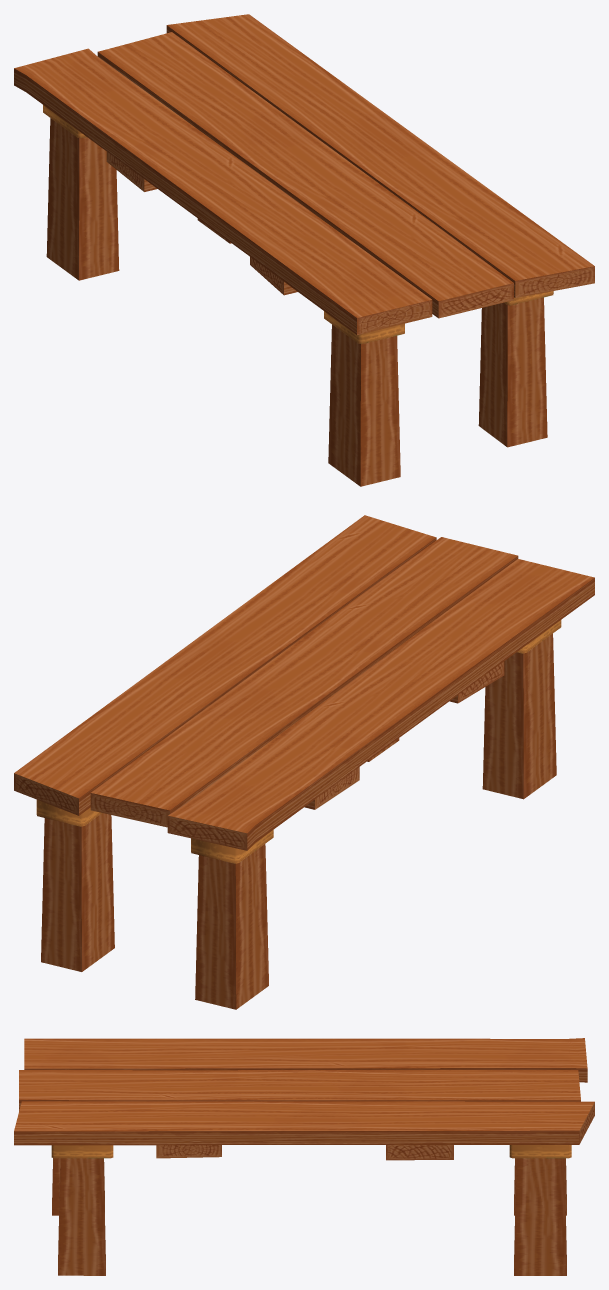
The model's file is table.fbx.
The picture shows the model from 3 angles, top to bottom: view 1: azimuth 30°, elevation 25°; view 2: azimuth 150°, elevation 25°; view 3: azimuth 270°, elevation 25°; orthographic projection. The views are drawn at different scales.
Visible parts, largest first — view 1: Table__4_; view 2: Table__4_; view 3: Table__4_.
Part boxes in pixels (x1,y1,x2,y2): Table__4_: [14, 14, 594, 486]; Table__4_: [14, 515, 594, 1009]; Table__4_: [14, 1038, 594, 1275].
Bounding box in the file's own units: 1.04 × 0.7907 × 2.73.
